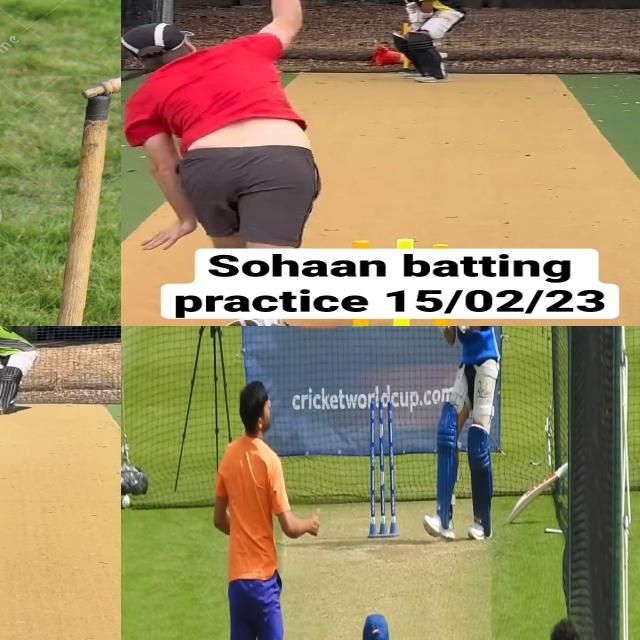Cricket ball: (121, 493, 131, 513)
Stumps: (39, 75, 121, 326), (368, 400, 398, 538)
